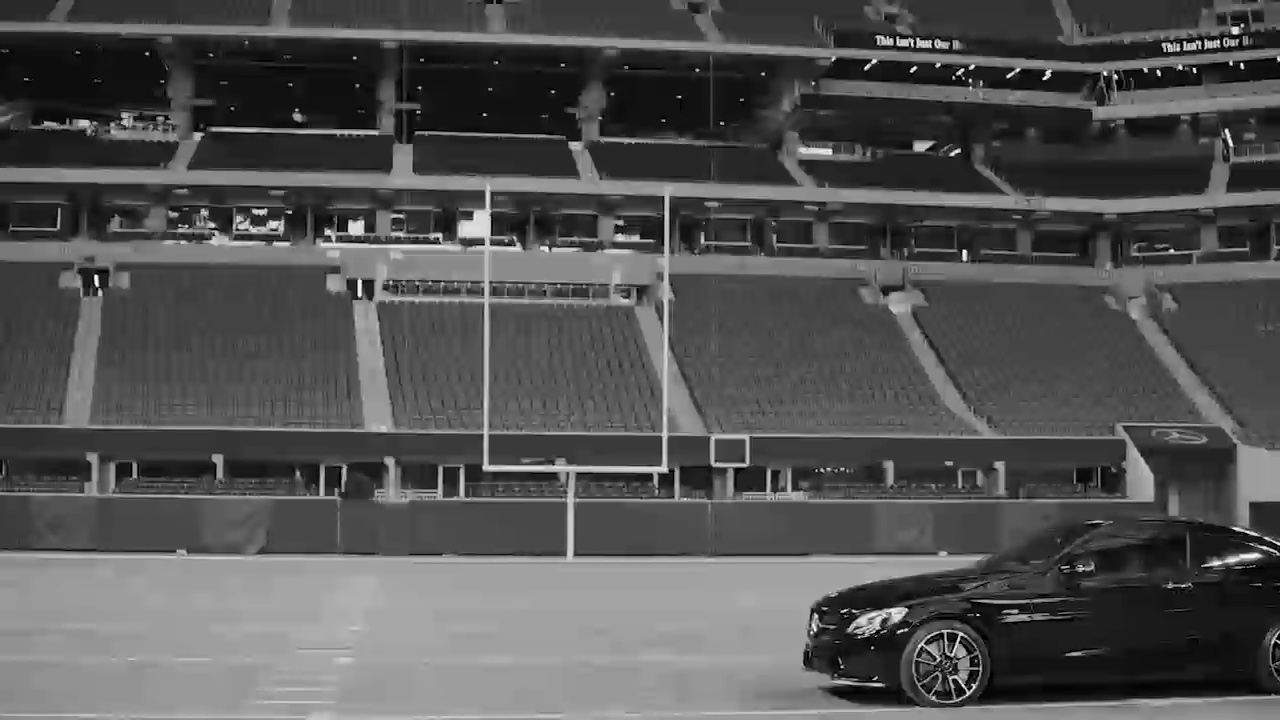car: (796, 503, 1280, 716)
